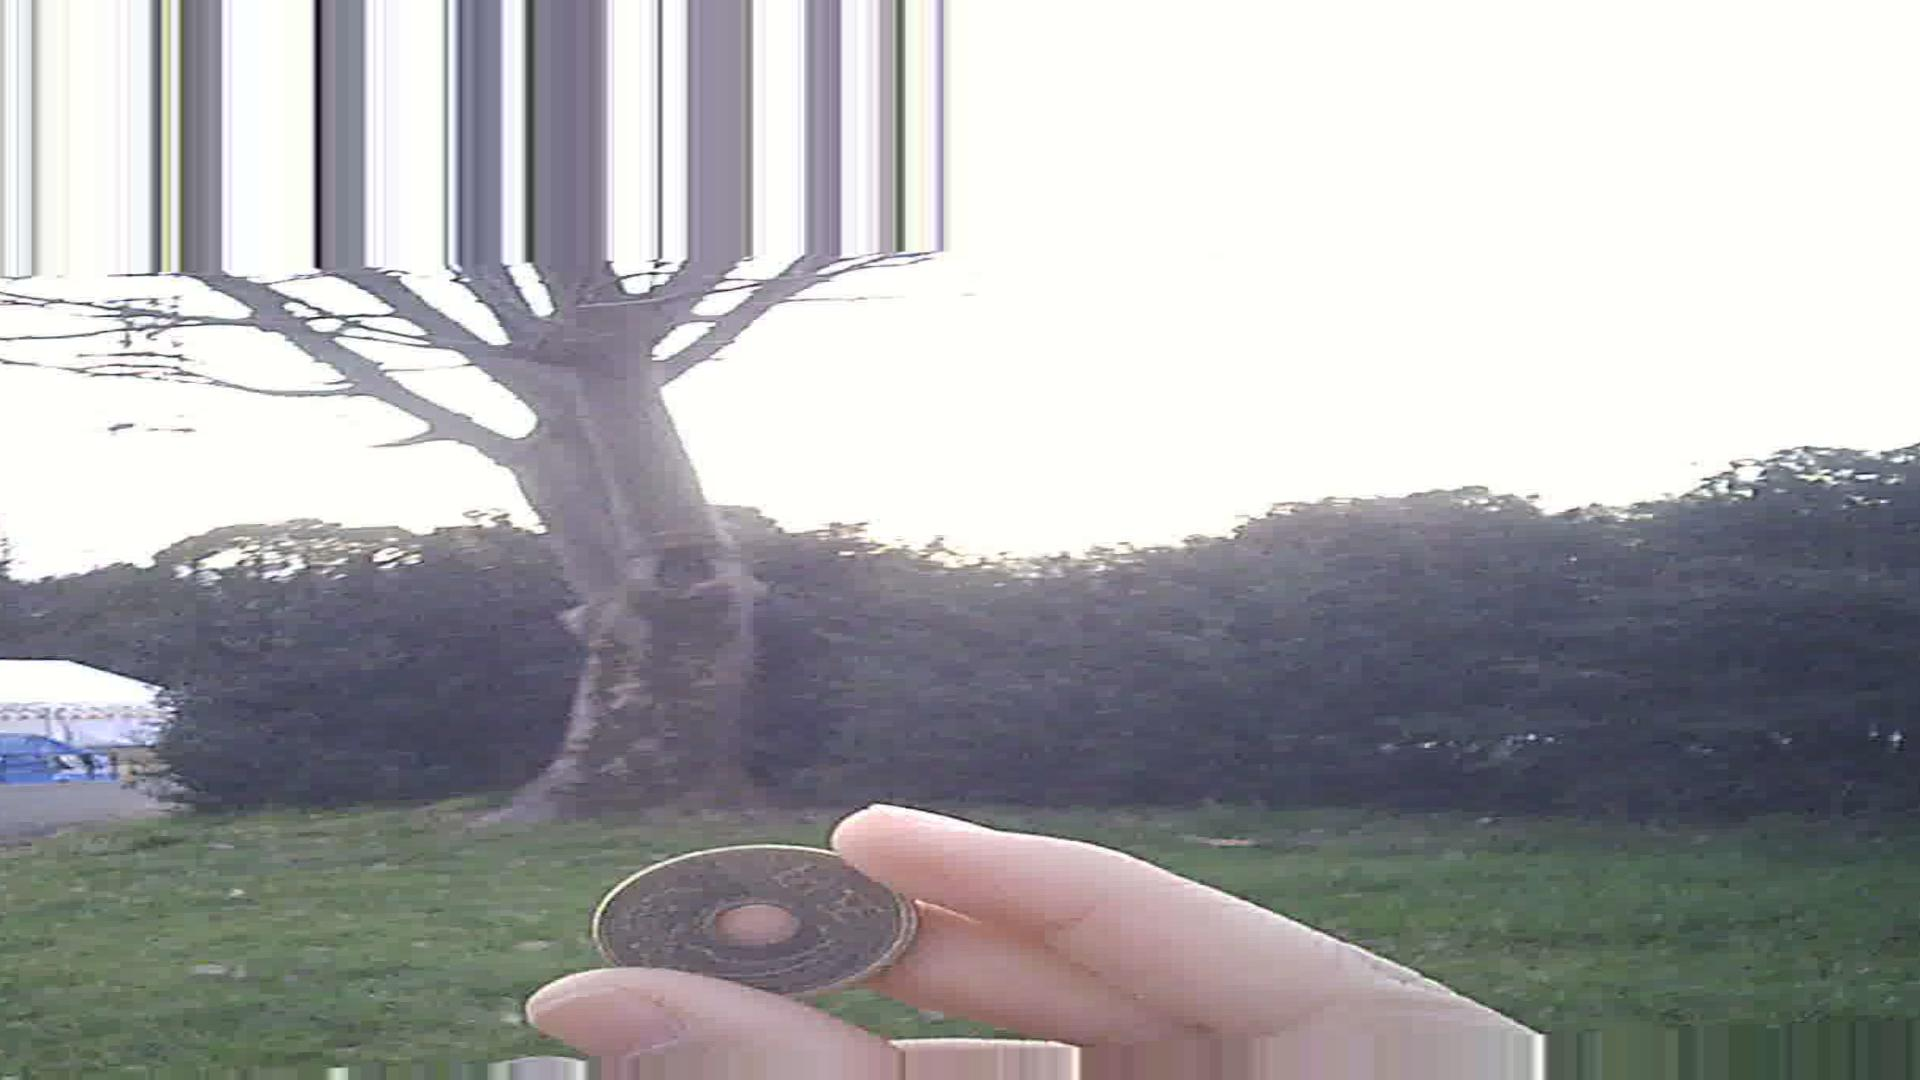5 Yen: (582, 845, 909, 1000)
